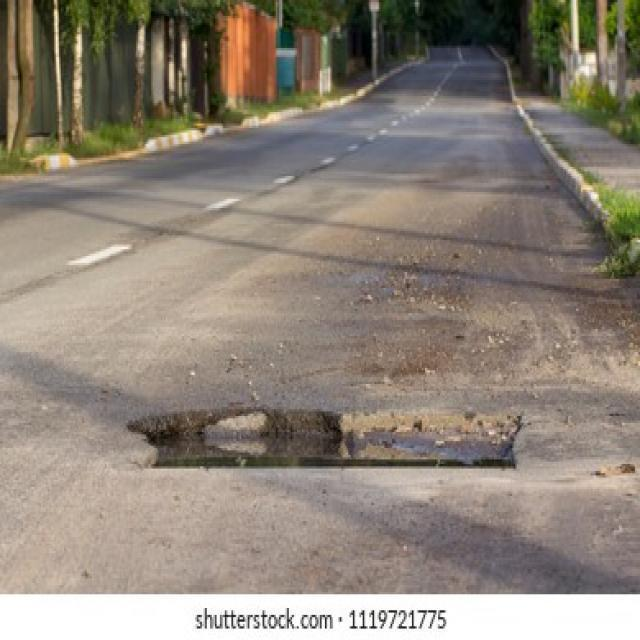Buraco: (119, 403, 541, 472)
